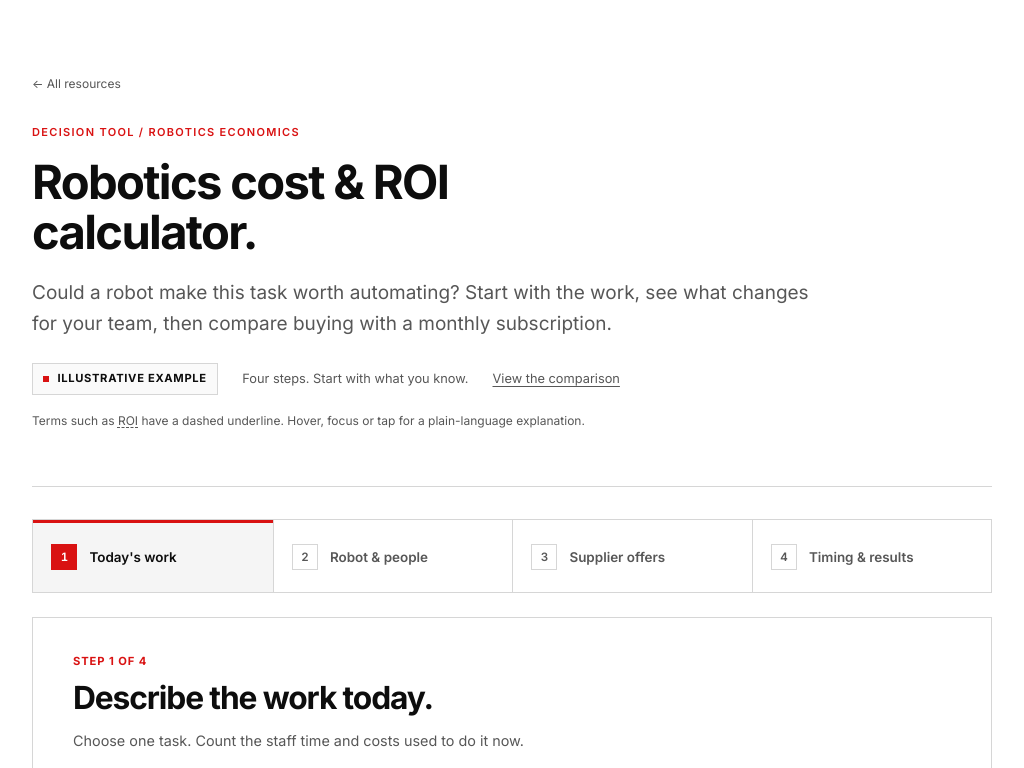
Test case: Guided robotics cost and ROI calculator › shows an explicitly illustrative comparison with the unchanged 50% staffing result
Expected: the heading "Robotics cost & ROI calculator." is shown, x1=32 y1=152 x2=448 y2=260
Expected: the text "Illustrative example" is shown, x1=32 y1=363 x2=218 y2=395
Click the button "2 Robot & people" at (393, 556), box x1=274 y1=520 x2=512 y2=592
(page scrolled)
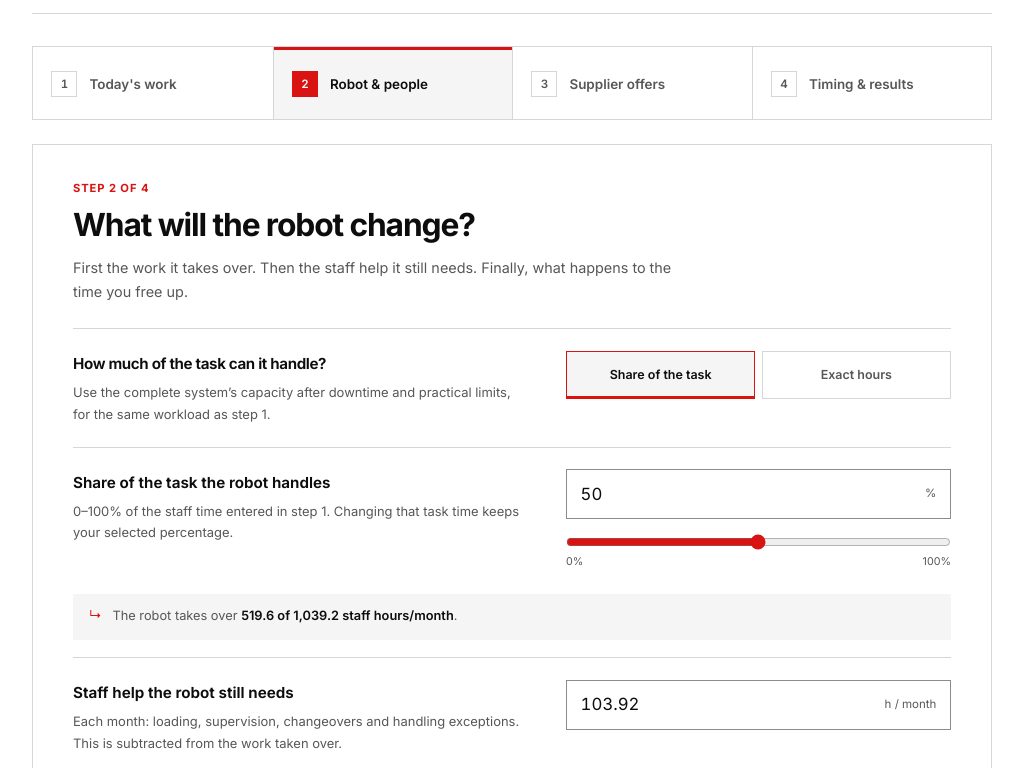
Click the button "4 Timing & results" at (872, 83), box x1=752 y1=47 x2=991 y2=119
(page scrolled)
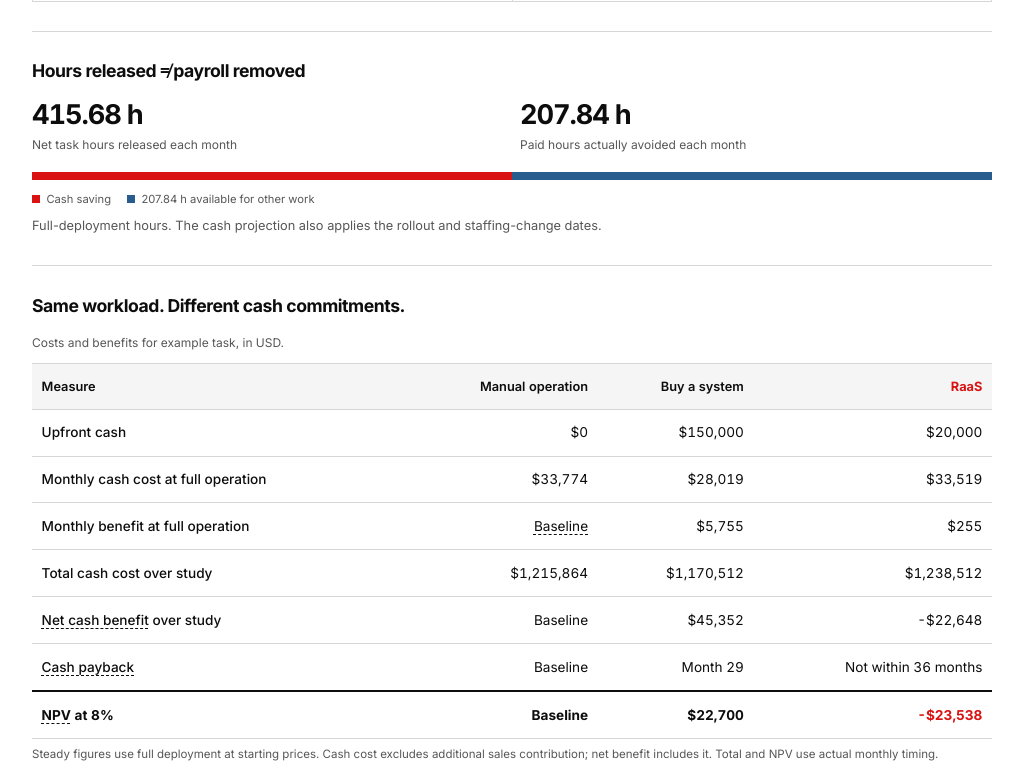
Expected: the text "415.68 h" is shown, x1=32 y1=98 x2=143 y2=131
Expected: the text "207.84 h" is shown, x1=520 y1=98 x2=631 y2=131
Expected: the row "NPV at 8% Baseline $22,700 -$23,538" is shown, x1=32 y1=691 x2=992 y2=738
